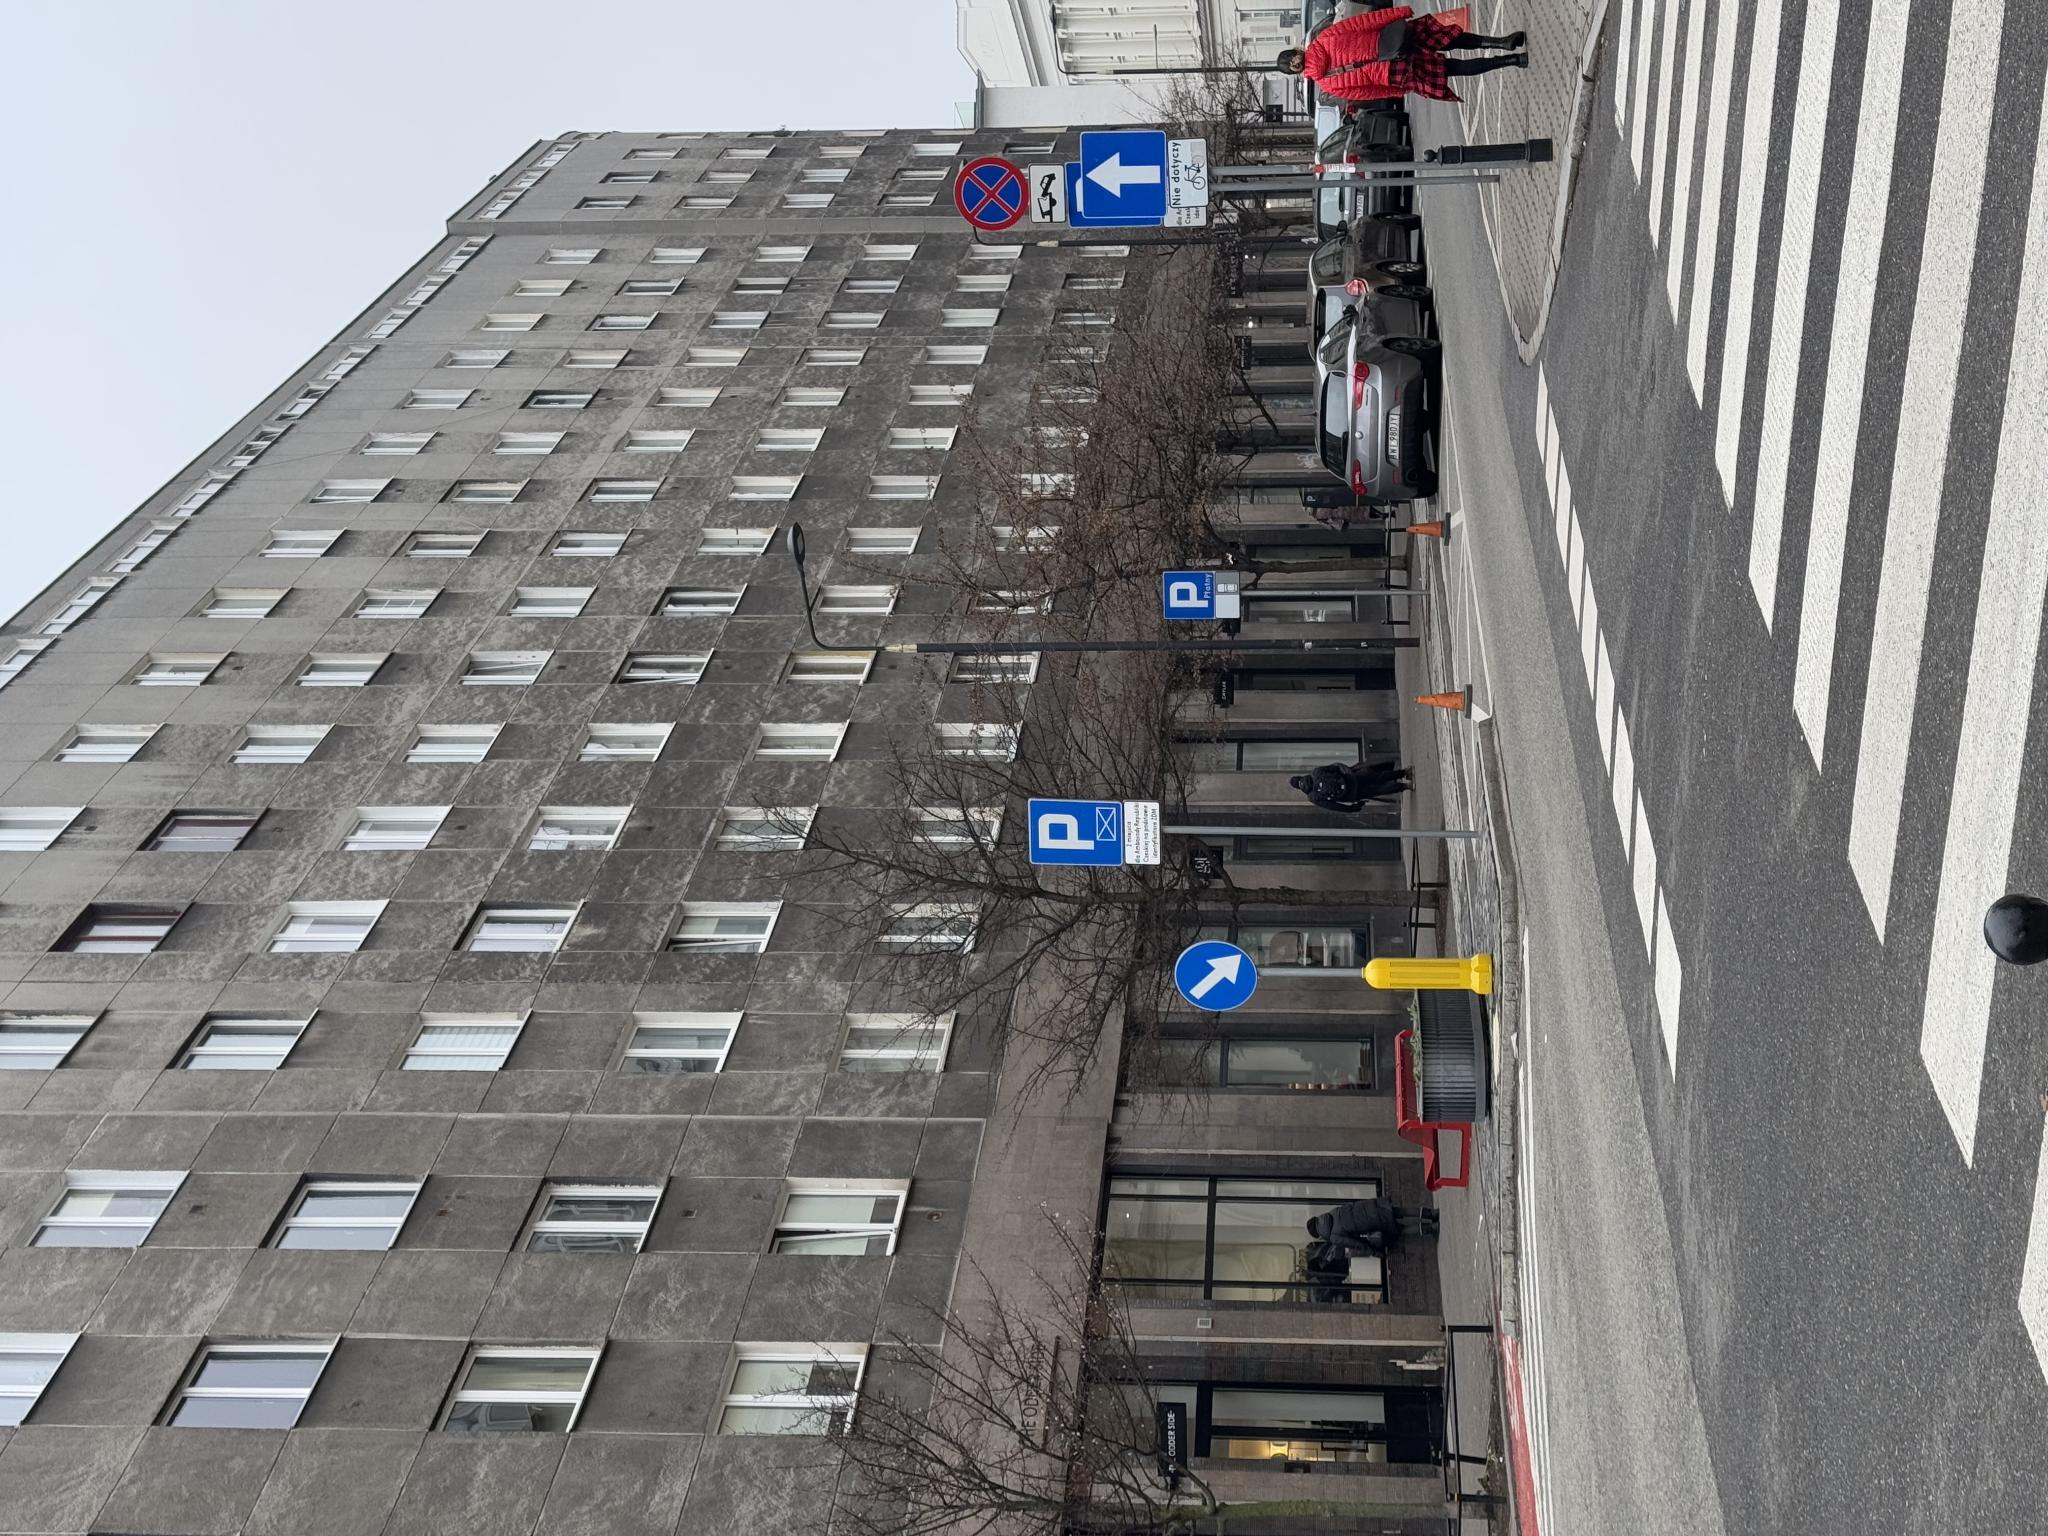information: (1317, 1079, 1406, 1167), (671, 1028, 740, 1123), (916, 1163, 966, 1215)
mandatory: (524, 1171, 598, 1258)
other: (1329, 1170, 1397, 1208), (671, 1125, 737, 1160), (1313, 1028, 1374, 1065), (918, 1213, 964, 1241), (1309, 1165, 1329, 1207)
prohibitory: (1305, 952, 1380, 1031)
